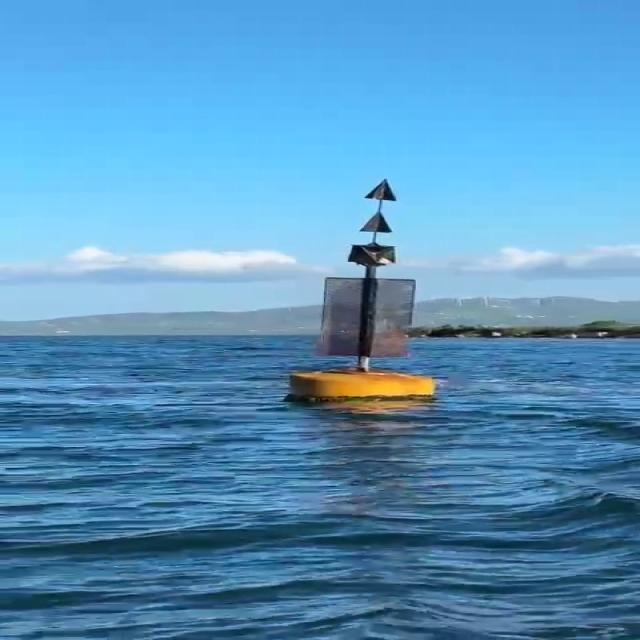marque: (290, 174, 448, 405)
